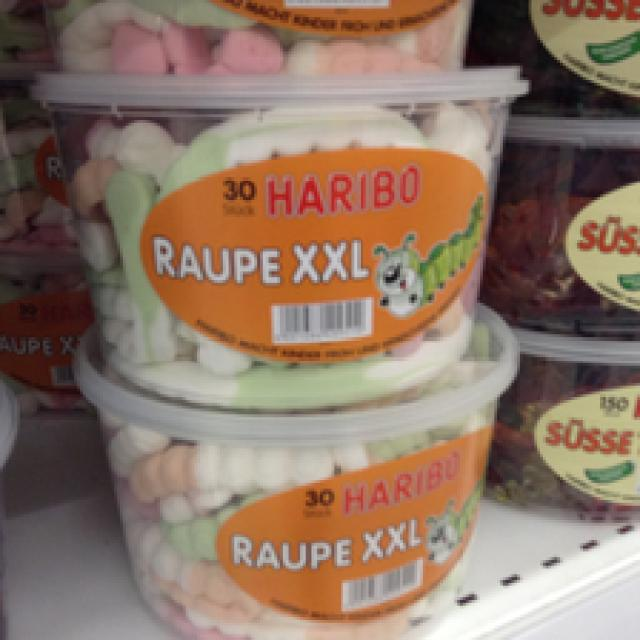groceries: (29, 71, 557, 408), (71, 369, 528, 637)
